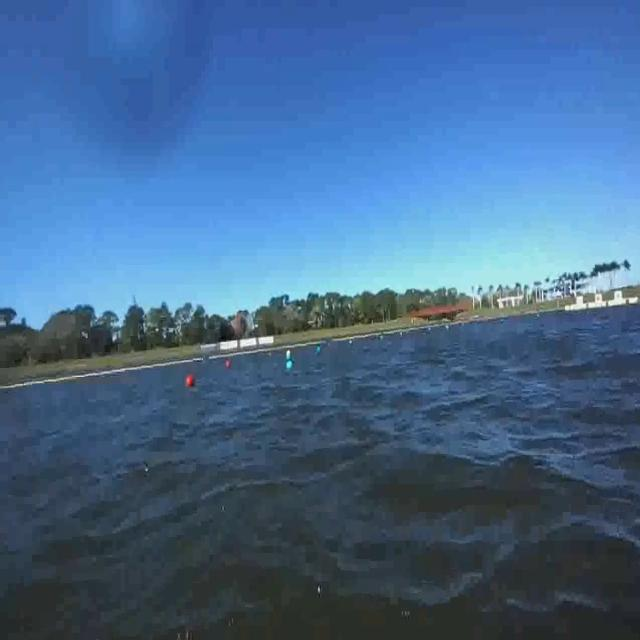green-buoy: (285, 357, 295, 376)
red-buoy: (185, 375, 194, 389), (225, 358, 230, 368)
